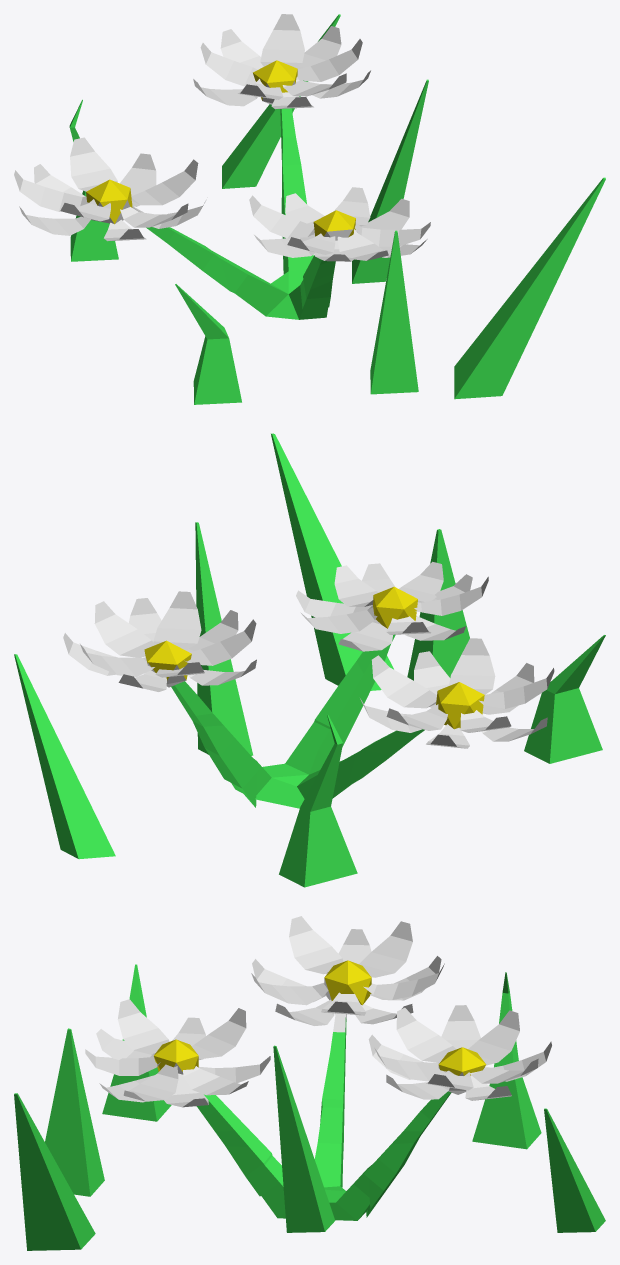
File: _omashki.fbx
3 renders of one model, top to bottom at view 1: azimuth 30°, elevation 25°; view 2: azimuth 150°, elevation 25°; view 3: azimuth 270°, elevation 25°, orthographic. The views are drawn at different scales.
Visible parts, largest first — view 1: harcis; view 2: harcis; view 3: harcis.
Part boxes in pixels (x1=…): harcis: x1=14, y1=14, x2=605, y2=404; harcis: x1=14, y1=433, x2=605, y2=887; harcis: x1=14, y1=916, x2=605, y2=1250.
Size of the model in its own units: 263 by 130 by 306.
